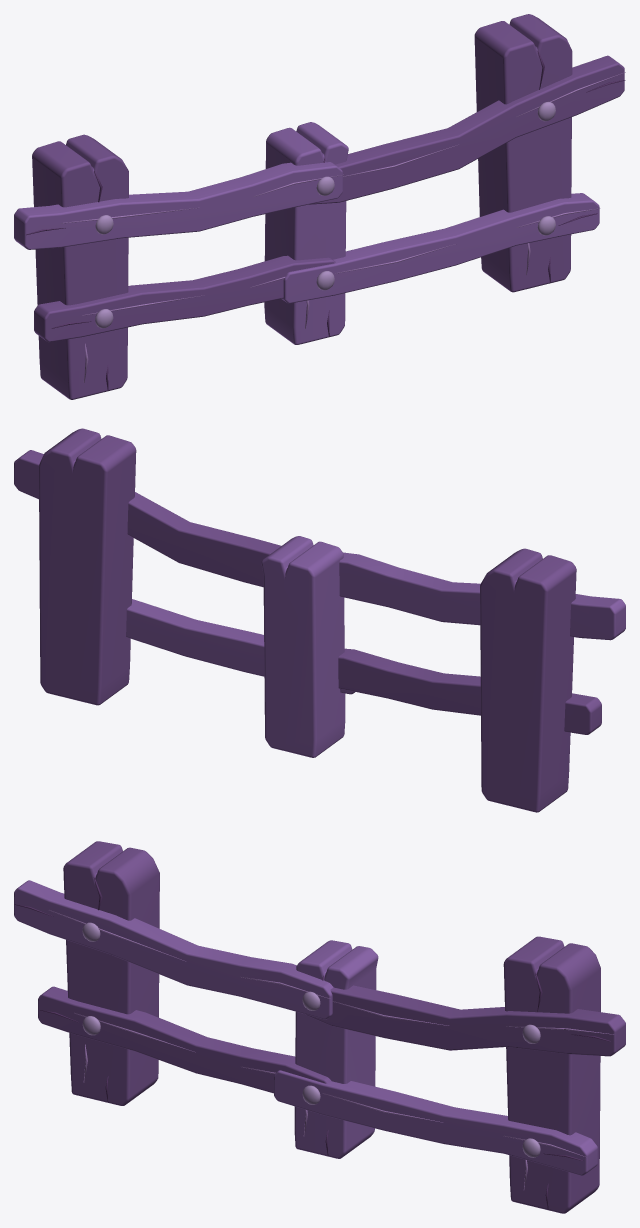
File: fence_purple_wood.glb
The picture shows the model from 3 angles, top to bottom: view 1: azimuth 30°, elevation 25°; view 2: azimuth 150°, elevation 25°; view 3: azimuth 330°, elevation 25°; orthographic projection.
Parts seen in each view (by area): view 1: Hewn_Post_3, Hewn_Post_1, Upper_Rail_Left, Upper_Rail_Right, Lower_Rail_Right, Hewn_Post_2, Lower_Rail_Left; view 2: Hewn_Post_3, Hewn_Post_1, Hewn_Post_2, Upper_Rail_Left, Upper_Rail_Right, Lower_Rail_Left, Lower_Rail_Right; view 3: Hewn_Post_3, Hewn_Post_1, Upper_Rail_Left, Upper_Rail_Right, Lower_Rail_Right, Hewn_Post_2, Lower_Rail_Left.
Boxes of the visible parts, bbox=[...] form: Hewn_Post_3: bbox=[474, 14, 572, 292]; Hewn_Post_1: bbox=[32, 134, 128, 399]; Upper_Rail_Left: bbox=[14, 162, 342, 249]; Upper_Rail_Right: bbox=[309, 55, 624, 204]; Lower_Rail_Right: bbox=[281, 193, 599, 303]; Hewn_Post_2: bbox=[264, 122, 348, 344]; Lower_Rail_Left: bbox=[34, 255, 335, 342]; Hewn_Post_3: bbox=[39, 428, 136, 705]; Hewn_Post_1: bbox=[480, 548, 576, 812]; Hewn_Post_2: bbox=[261, 536, 345, 757]; Upper_Rail_Left: bbox=[339, 552, 625, 640]; Upper_Rail_Right: bbox=[14, 450, 281, 587]; Lower_Rail_Left: bbox=[338, 648, 601, 734]; Lower_Rail_Right: bbox=[126, 599, 354, 694]; Hewn_Post_3: bbox=[503, 936, 600, 1213]; Hewn_Post_1: bbox=[63, 841, 159, 1105]; Upper_Rail_Left: bbox=[14, 880, 333, 1019]; Upper_Rail_Right: bbox=[301, 985, 625, 1056]; Lower_Rail_Right: bbox=[274, 1070, 597, 1175]; Hewn_Post_2: bbox=[294, 940, 378, 1158]; Lower_Rail_Left: bbox=[38, 986, 331, 1093].
Size of the model in its own units: 5.18 by 2.03 by 0.603.
